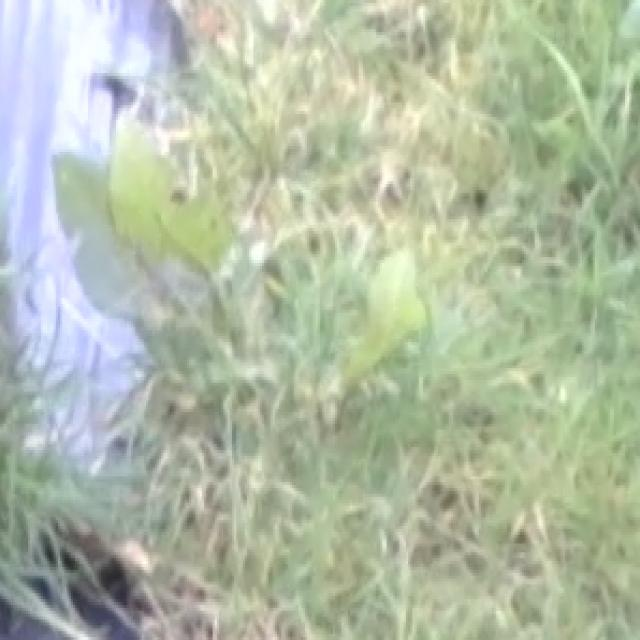organic waste: (50, 96, 449, 472)
